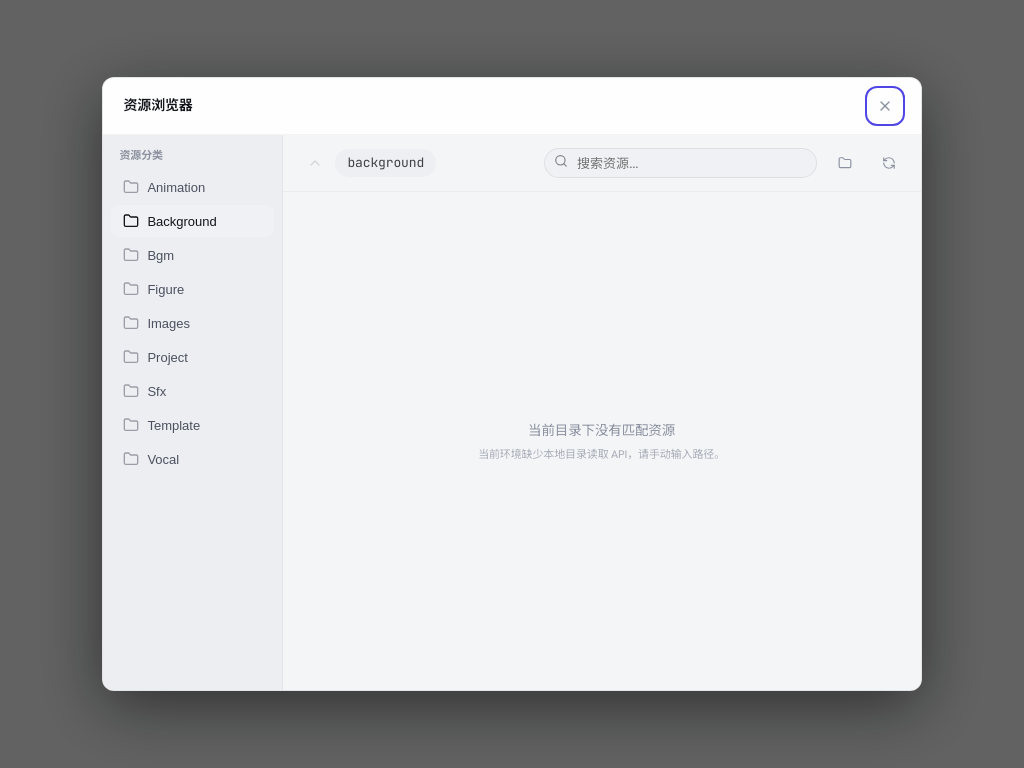
Test: resource directory folder action › dismisses the source menu with Escape before closing the resource browser
The width and height of the screenshot is (1024, 768).
Step 1. Click the button named "打开当前资源文件夹" → (845, 163), box [829,147,861,179]
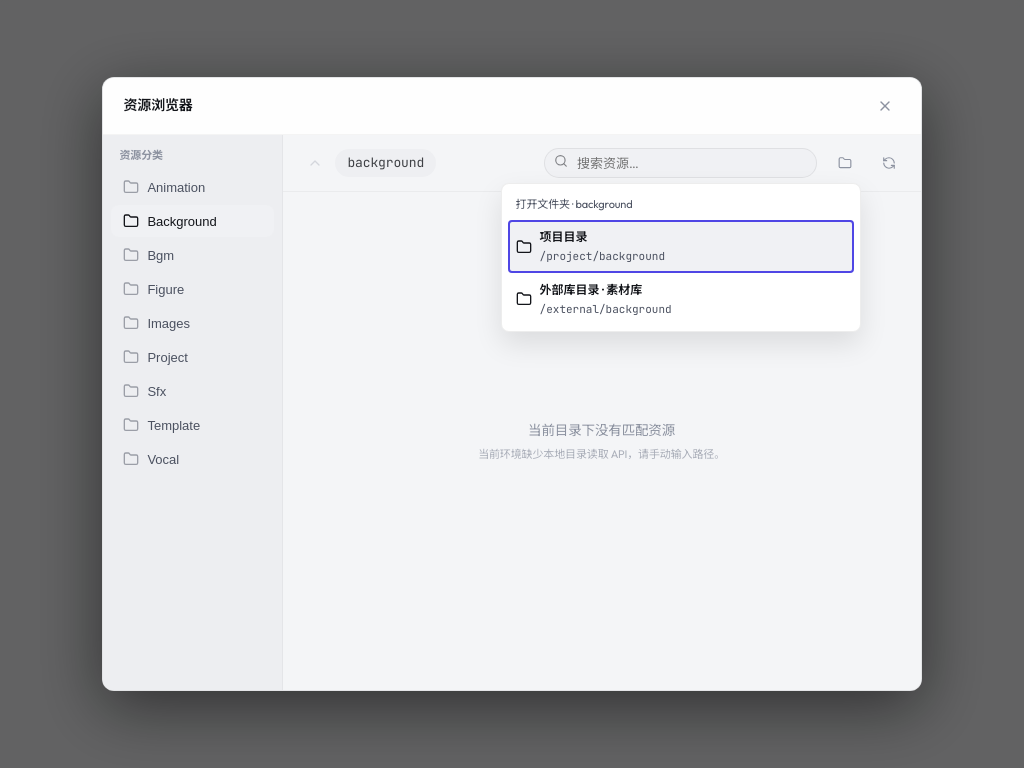
Step 2. Press Escape in the menu item "项目目录 /project/background", box [508,220,854,273]
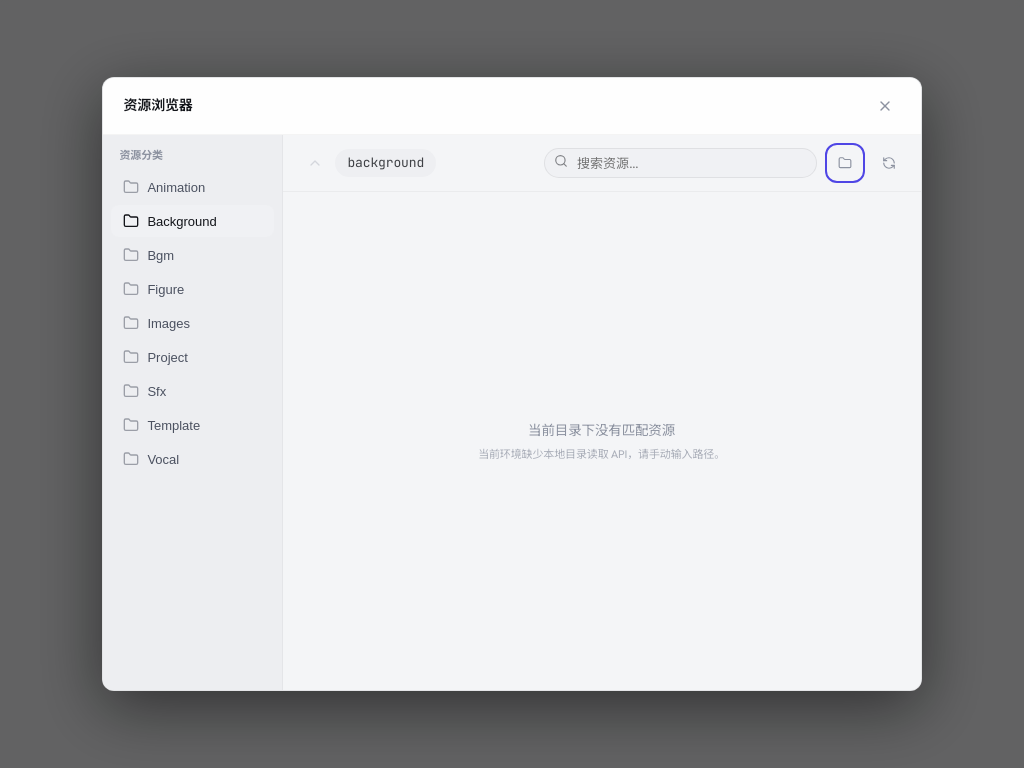
Check: the menu is gone
